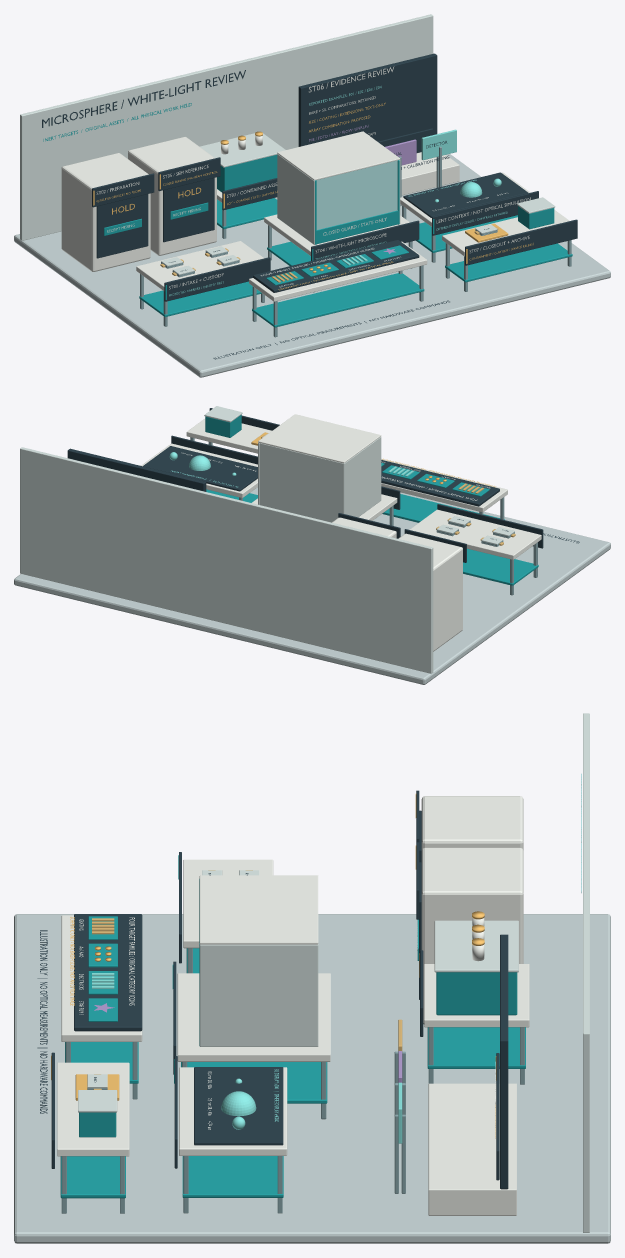
File: microsphere_lab.glb
3 views of the same model, one above another, from view 1: azimuth 30°, elevation 25°; view 2: azimuth 150°, elevation 25°; view 3: azimuth 270°, elevation 25° (orthographic). The views are drawn at different scales.
Parts seen in each view (by area): view 1: Environment.backwall, Environment.floor, A08.evidence_panel, A06.prep_enclosure, A05.closed_front_guard, A02.diagram_bench.shelf, A06.sem_enclosure, A05.enclosure_top, A04.control_board, A06.prep_door, A05.enclosure_side, A02.diagram_board (+25 smaller); view 2: Environment.backwall, Environment.floor, A05.enclosure_back, A05.enclosure_top, A06.prep_enclosure, A01.intake_bench.top, A04.control_board, A05.enclosure_side, A02.diagram_board, A01.intake_bench.shelf, A08.evidence_panel, A09.return_bench.top (+9 smaller); view 3: Environment.floor, A05.enclosure_side.001, A08.evidence_base, A06.sem_enclosure, A05.enclosure_top, A04.control_board, A02.diagram_board, A06.prep_enclosure, A05.microscope_bench.top, A09.return_bench.top, A04.control_bench.shelf, A03.assembly_lid (+15 smaller).
Part boxes in pixels (box(x1,y1,x2,y2)): Environment.backwall: box(20, 14, 433, 240); Environment.floor: box(14, 154, 610, 377); A08.evidence_panel: box(298, 53, 437, 152); A06.prep_enclosure: box(61, 153, 150, 271); A05.closed_front_guard: box(316, 160, 397, 244); A02.diagram_bench.shelf: box(252, 273, 424, 327); A06.sem_enclosure: box(128, 136, 216, 255); A05.enclosure_top: box(277, 131, 400, 180); A04.control_board: box(403, 172, 528, 217); A06.prep_door: box(96, 194, 148, 258); A05.enclosure_side: box(277, 154, 314, 244); A02.diagram_board: box(253, 240, 419, 292); Environment.backwall: box(20, 447, 433, 673); Environment.floor: box(14, 487, 610, 684); A05.enclosure_back: box(260, 443, 342, 522); A05.enclosure_top: box(258, 414, 381, 463); A06.prep_enclosure: box(398, 533, 462, 651); A01.intake_bench.top: box(409, 509, 541, 559); A04.control_board: box(143, 446, 257, 491); A05.enclosure_side: box(342, 437, 381, 517); A02.diagram_board: box(381, 460, 499, 506); A01.intake_bench.shelf: box(463, 548, 538, 585); A08.evidence_panel: box(67, 448, 206, 491); A09.return_bench.top: box(186, 418, 271, 453); Environment.floor: box(14, 914, 610, 1243); A05.enclosure_side.001: box(199, 944, 318, 1046); A08.evidence_base: box(428, 1083, 516, 1215); A06.sem_enclosure: box(421, 847, 523, 1024); A05.enclosure_top: box(199, 875, 318, 944); A04.control_board: box(194, 1067, 283, 1145); A02.diagram_board: box(74, 914, 142, 1031); A06.prep_enclosure: box(421, 796, 523, 850); A05.microscope_bench.top: box(177, 973, 330, 1061); A09.return_bench.top: box(57, 1062, 129, 1156); A04.control_bench.shelf: box(182, 1156, 283, 1197); A03.assembly_lid: box(434, 920, 518, 972).
Bounding box in the file's own units: 10.8 × 3.32 × 8.5.
